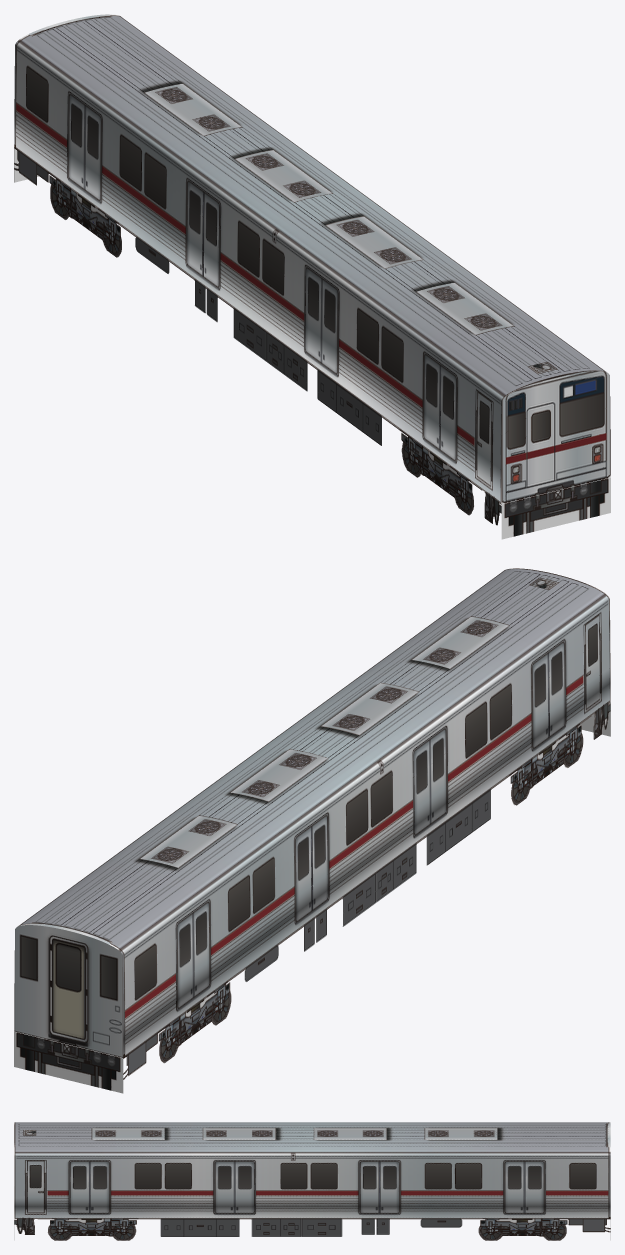
File: car1.glb
3 renders of one model, top to bottom at view 1: azimuth 30°, elevation 25°; view 2: azimuth 150°, elevation 25°; view 3: azimuth 270°, elevation 25°, orthographic. The views are drawn at different scales.
Parts seen in each view (by area): view 1: tobu-9000-car1; view 2: tobu-9000-car1; view 3: tobu-9000-car1.
Boxes of the visible parts, x1=… form: tobu-9000-car1: x1=14, y1=14, x2=610, y2=539; tobu-9000-car1: x1=14, y1=568, x2=610, y2=1093; tobu-9000-car1: x1=14, y1=1122, x2=610, y2=1240.
Bounding box in the file's own units: 2.77 × 3.62 × 21.43.
Materials: 8 (7 with a texture image).
